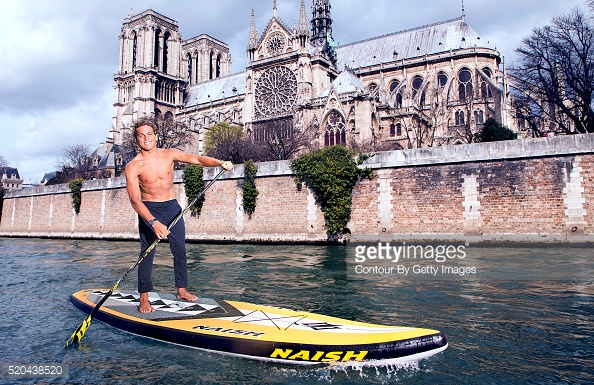em pe: (114, 111, 210, 300)
